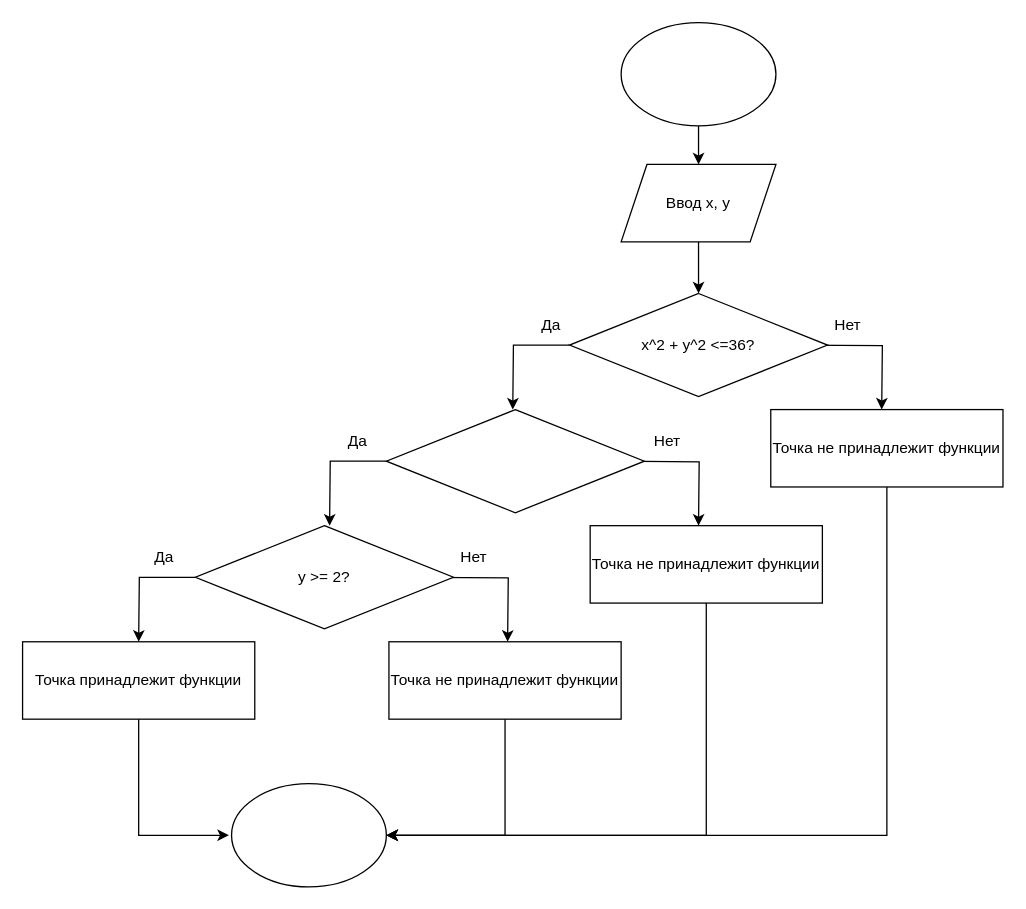
Some shapes in this 1026 by 909 pixel diagram are drawn without their labels. Here are the shapes that lost their labels. From the top down, the box of each, then its label:
(620, 21, 776, 126): Начало
(385, 408, 644, 513): x^2 + y^2>=16?
(230, 782, 386, 887): Конец
